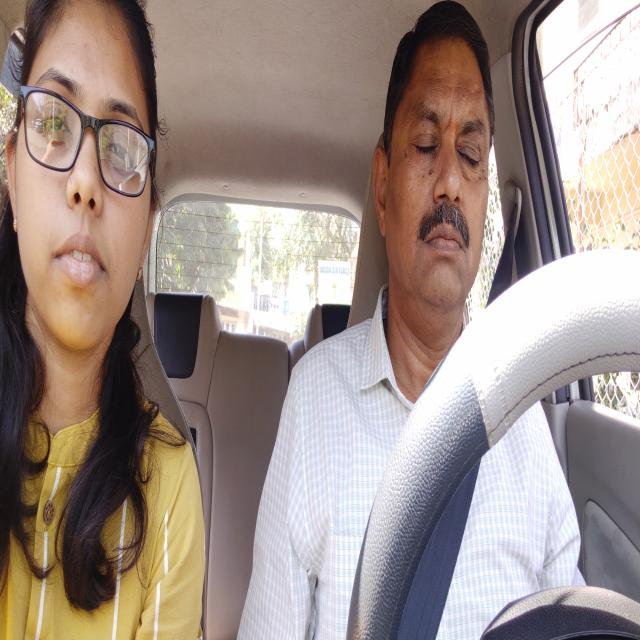drowsy: (364, 0, 509, 340)
person: (5, 4, 172, 374)
